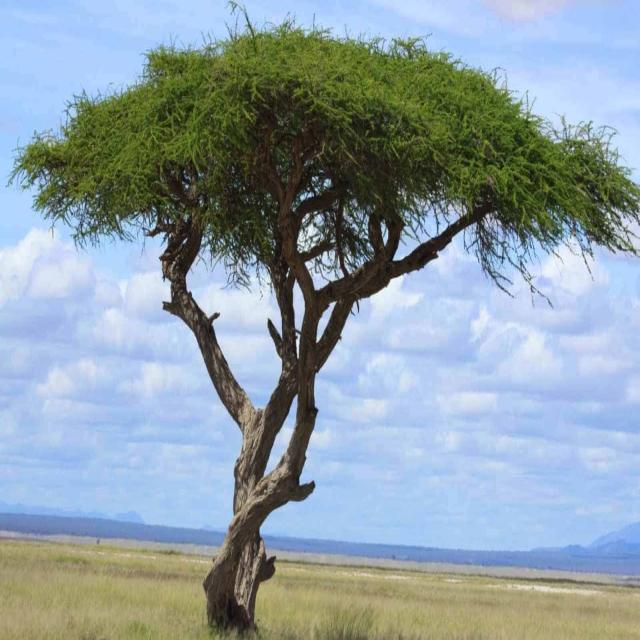Acacia: (15, 28, 632, 524)
